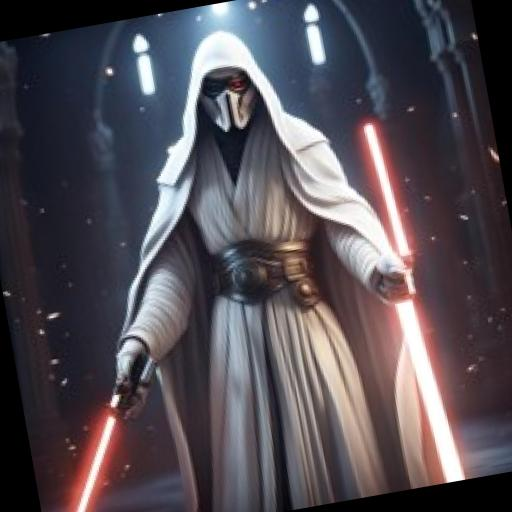sith saber: (17, 349, 186, 512)
